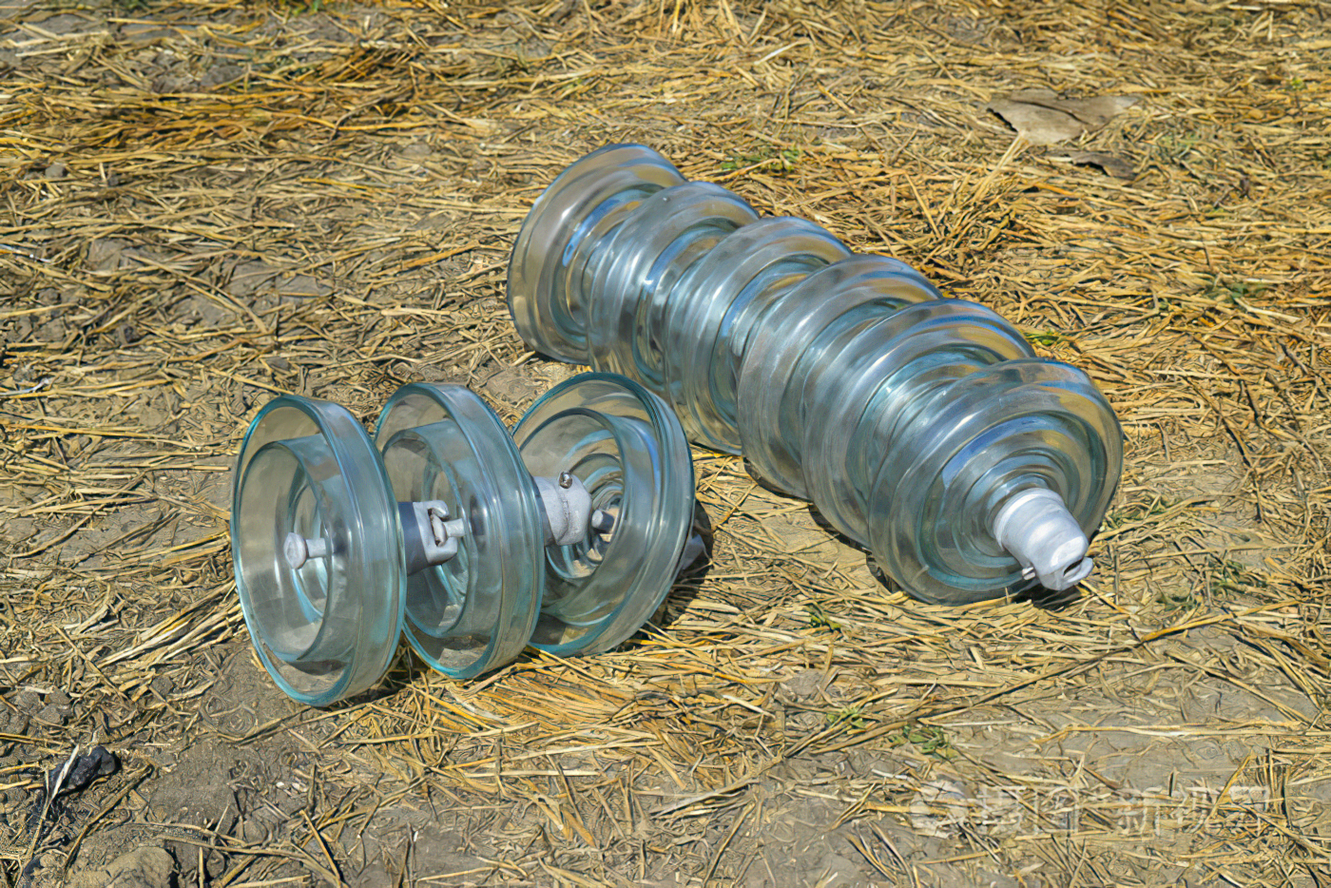insulator: (507, 140, 1126, 603), (229, 369, 690, 706)
